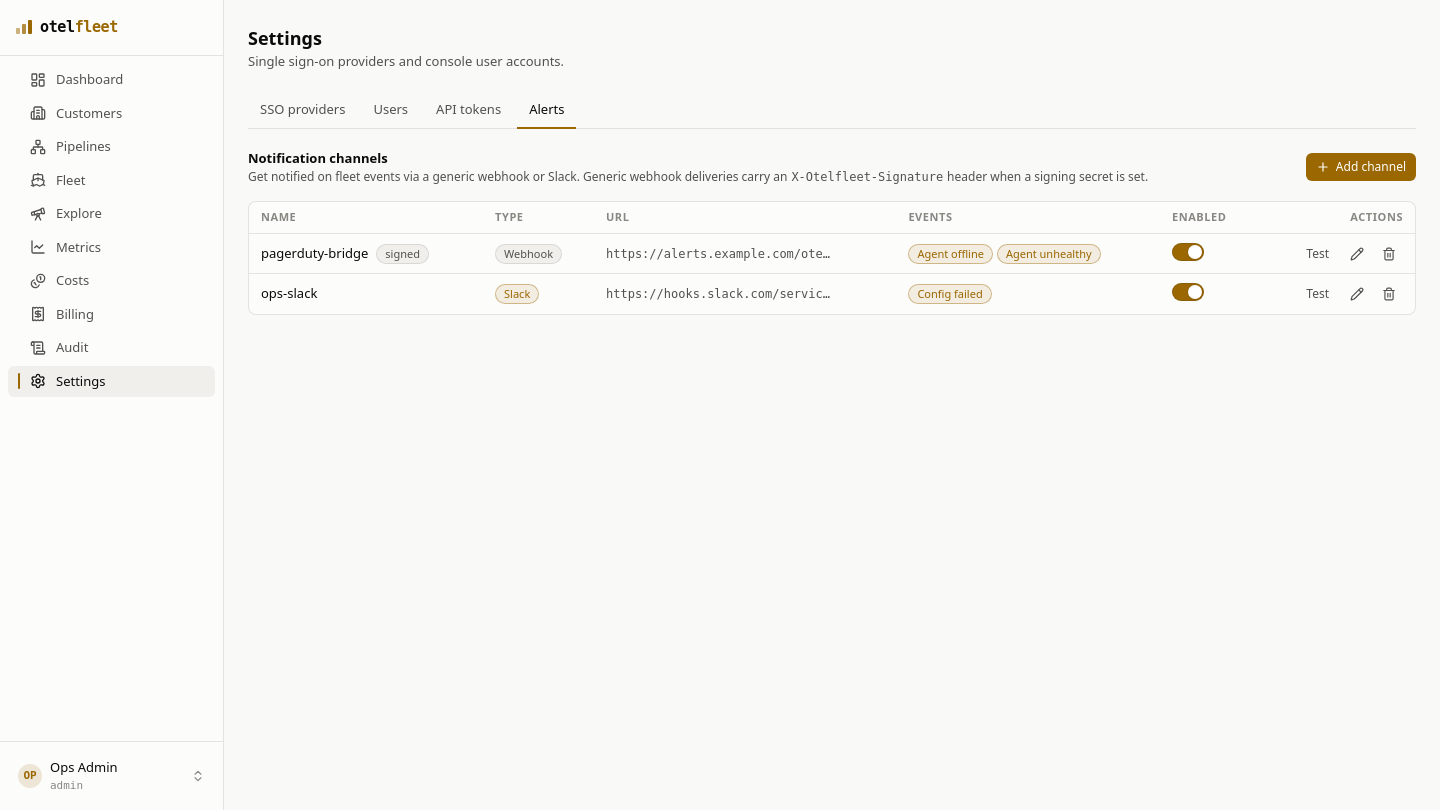
Test: /settings?tab=alerts › hides the signing secret for Slack and shows it for Webhook in the create dialog
Step 1. Click the button "Add channel" → (1361, 167), box [1306,153,1416,181]
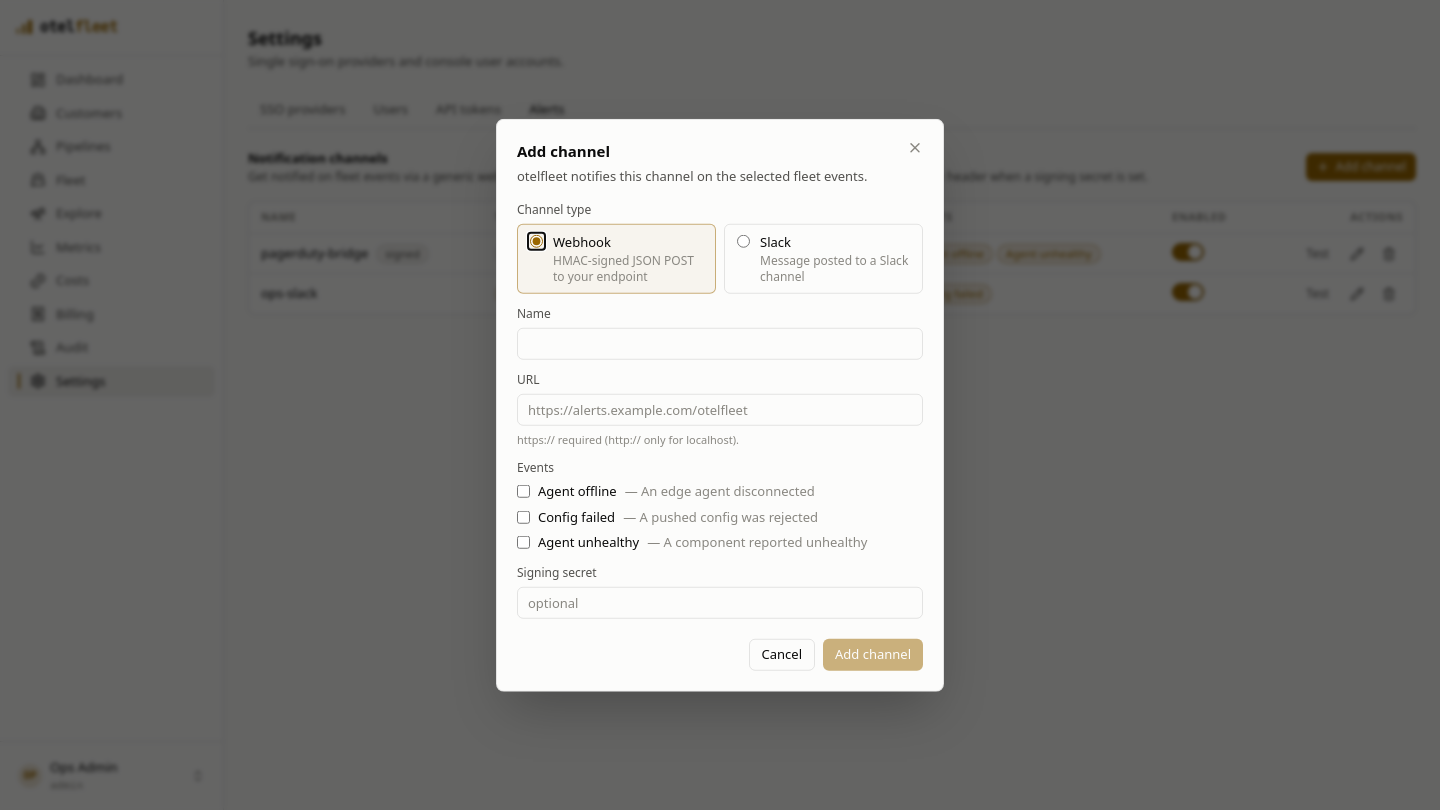
expect the password field labelled "Signing secret" is shown: met, box [517,586,923,618]
expect the field labelled "URL" is shown: met, box [517,393,923,425]
Note: Switching to Slack hides the secret and relabels the URL field.
Step 2. Click the radio button labelled "Slack Message posted to a Slack channel" → (744, 241), box [737,235,750,248]
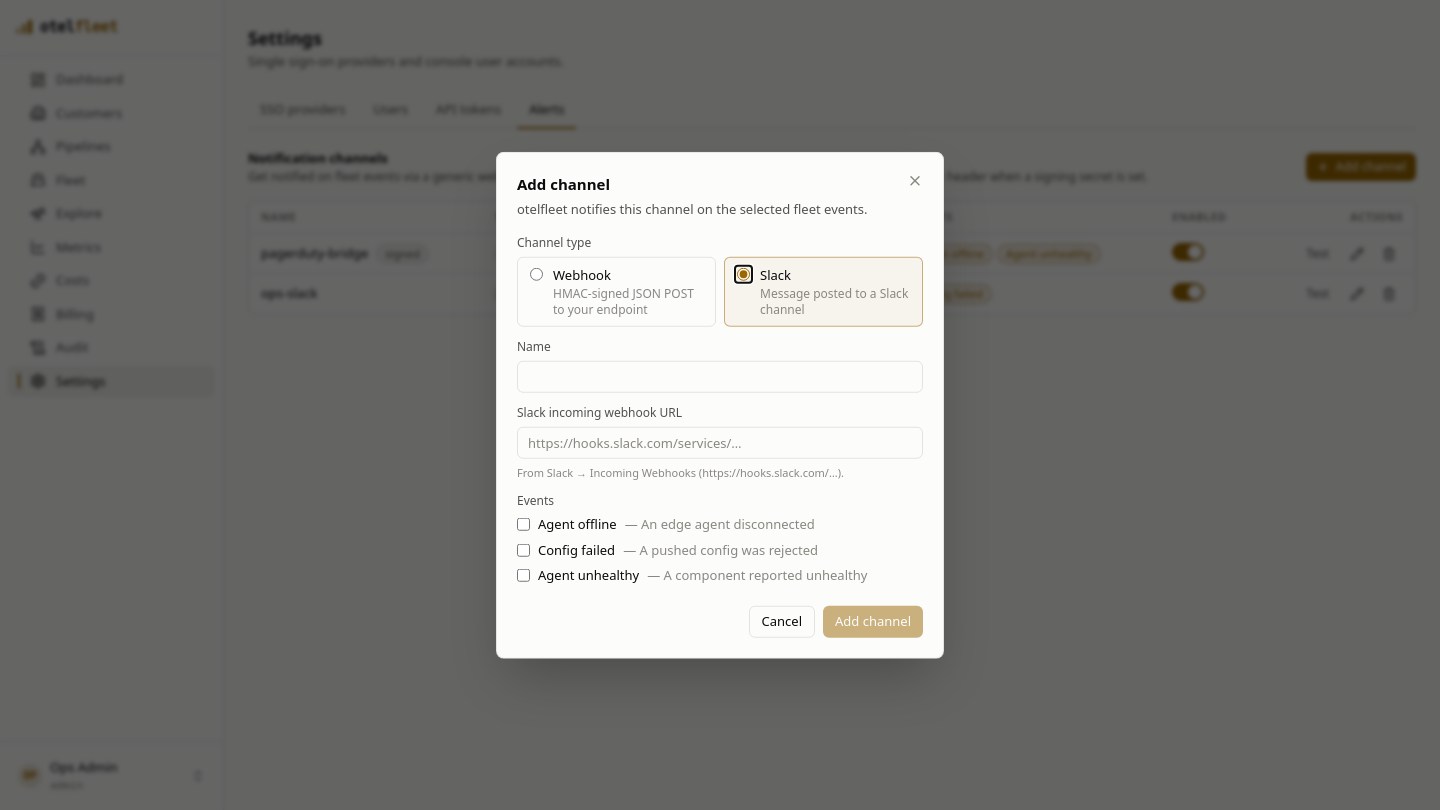
expect the field labelled "Slack incoming webhook URL" is shown: met, box [517,426,923,458]
Note: Switching back to Webhook brings the secret field back.
Step 3. Click the radio button labelled "Webhook HMAC-signed JSON POST to your endpoint" → (536, 274), box [530,268,543,281]
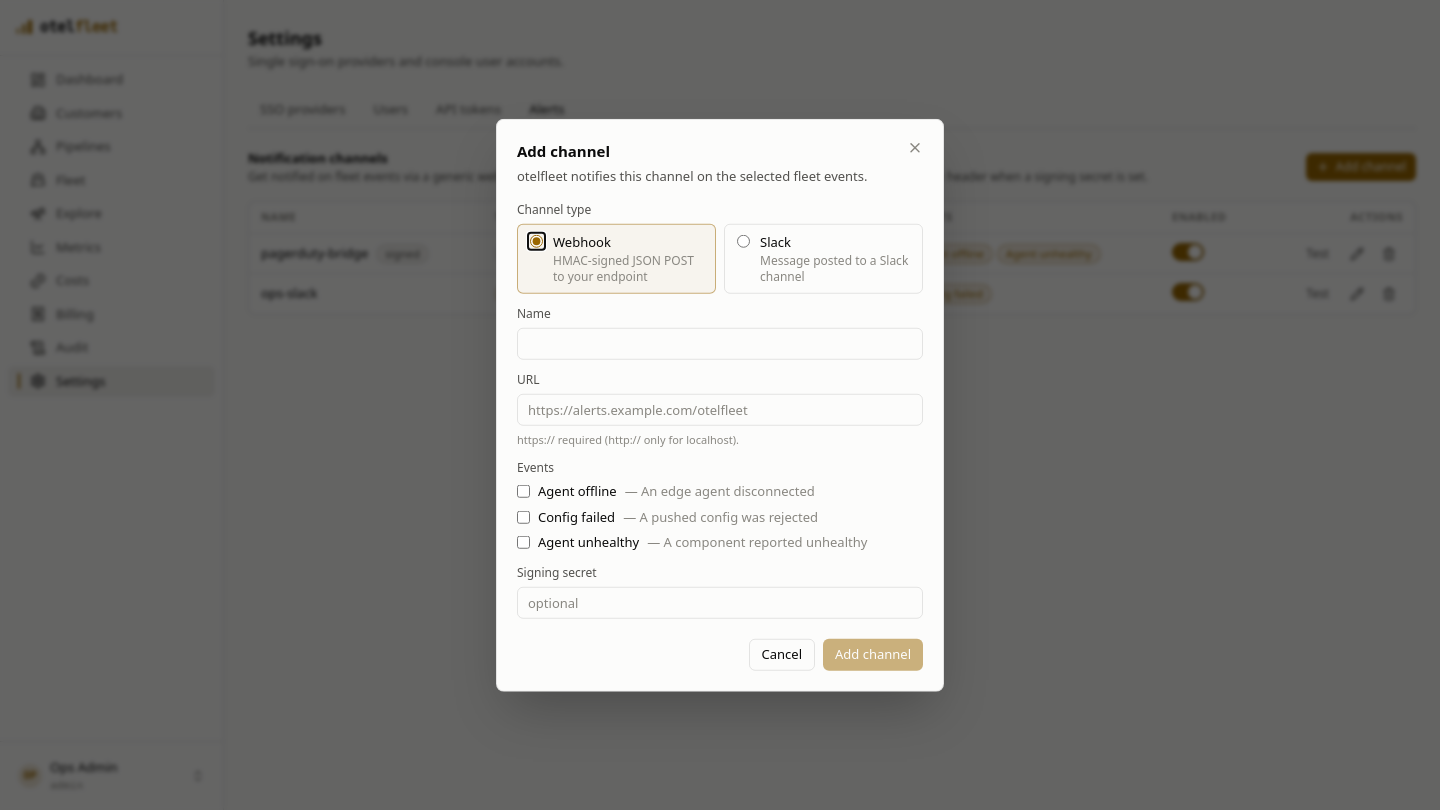
expect the password field labelled "Signing secret" is shown: met, box [517,586,923,618]
